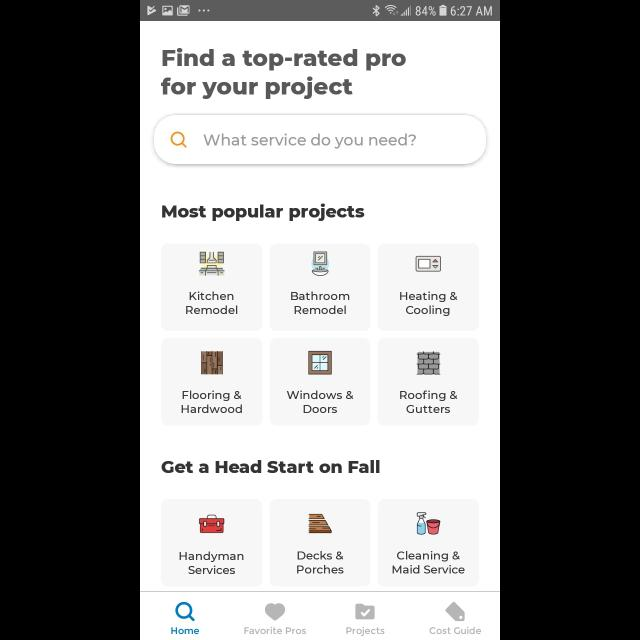icon: (445, 602, 465, 622), (176, 602, 196, 620), (265, 603, 285, 621), (356, 604, 374, 620), (171, 132, 187, 148)
image: (198, 252, 226, 276), (416, 512, 440, 536), (308, 351, 332, 375), (417, 351, 441, 375), (200, 351, 223, 375), (199, 514, 225, 534), (308, 514, 332, 534), (312, 252, 330, 276), (415, 256, 441, 272)
input: (154, 115, 486, 165)
text: (162, 49, 406, 100), (162, 203, 366, 221), (204, 134, 416, 148), (162, 461, 380, 474), (392, 550, 464, 574), (286, 391, 354, 414), (180, 552, 244, 574), (400, 292, 458, 316), (182, 391, 242, 414), (400, 391, 458, 414), (290, 292, 350, 314), (296, 550, 344, 574), (186, 292, 238, 314), (245, 626, 307, 634), (429, 626, 481, 634), (346, 626, 386, 636), (172, 626, 200, 634)
uppertaskbar: (140, 1, 500, 22)
